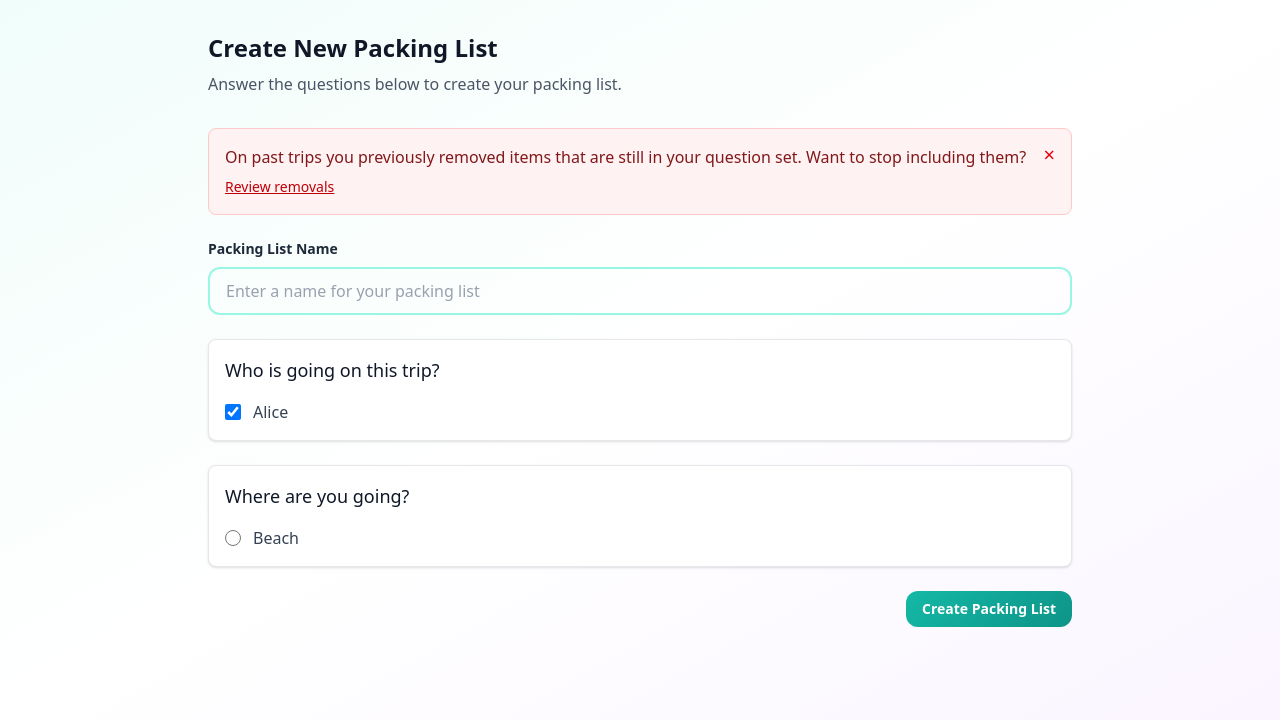
Test case: CreatePackingList – deletion suggestion card › dismissing the deletion card hides it
Expected: the text "previously removed" is shown, [225, 146, 1026, 168]
Click the button named "dismiss removals" at (1049, 155), box [1044, 145, 1055, 165]
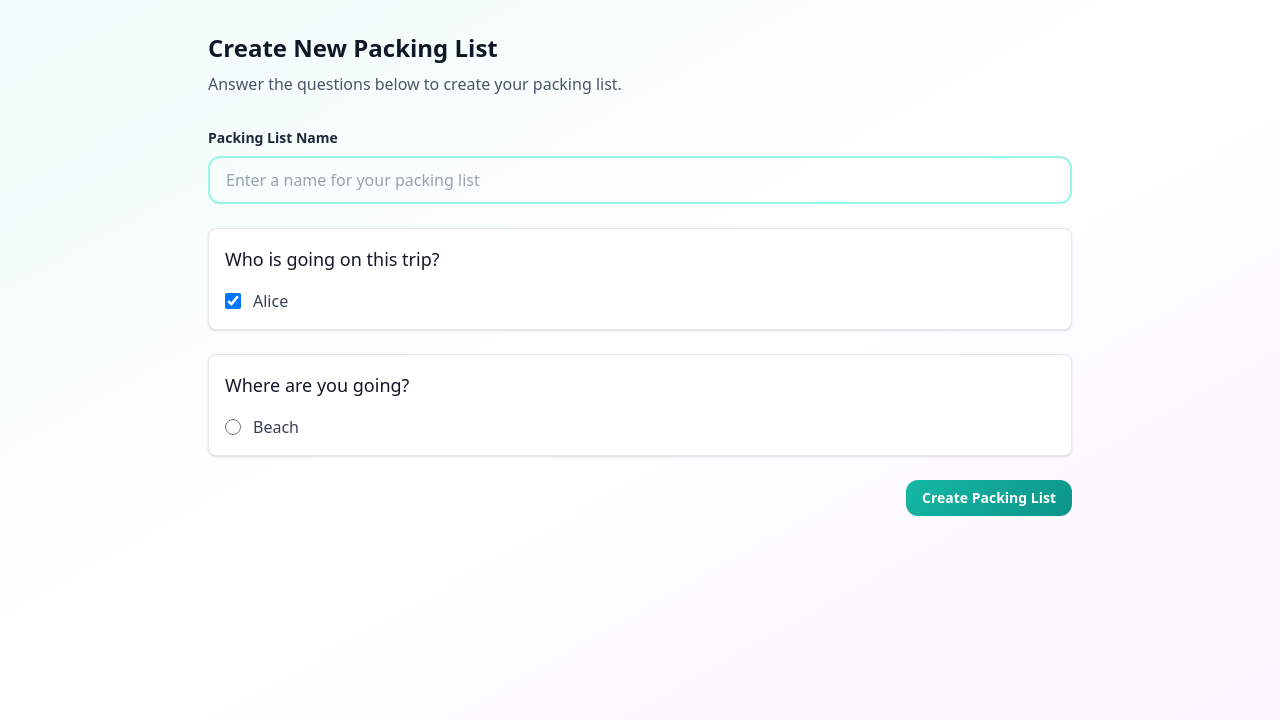
Now the text "previously removed" is gone
